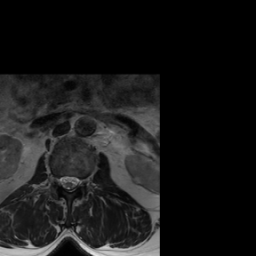CCS_normal: (65, 169, 71, 196)
LFS_normal: (78, 172, 85, 190)
LLS_normal: (71, 170, 78, 192)
RFS_normal: (53, 170, 59, 190)
RLS_normal: (59, 170, 65, 192)
